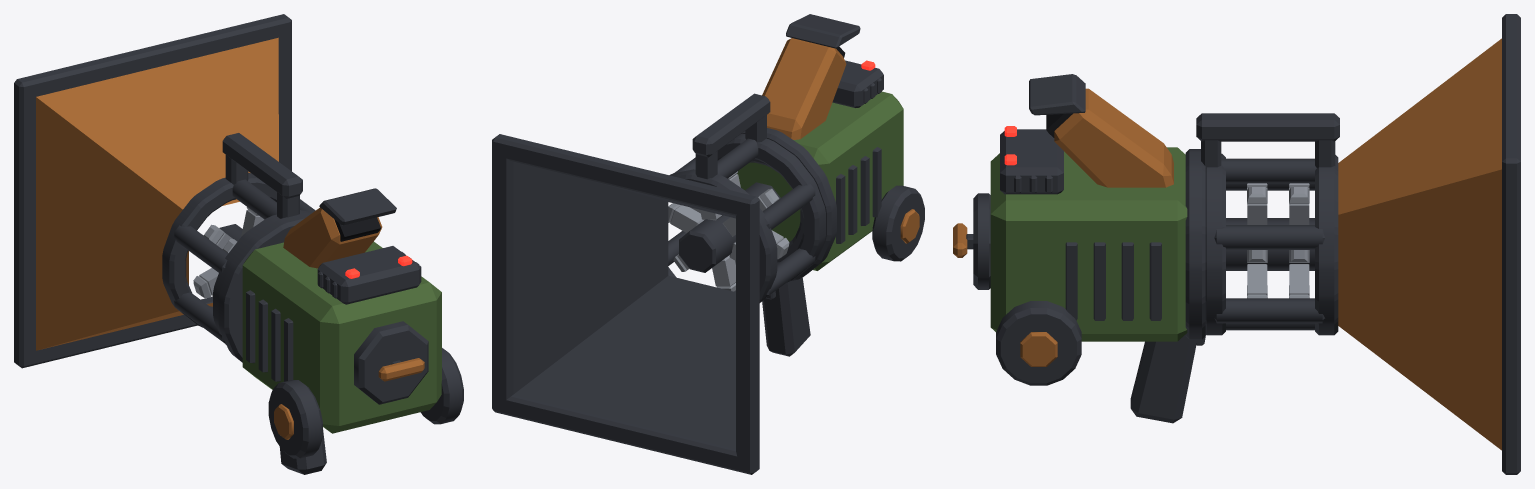
Rendered from w_shredder@shredder_chipper.glb.
The picture shows the model from 3 angles, left to right: view 1: azimuth 30°, elevation 25°; view 2: azimuth 150°, elevation 25°; view 3: azimuth 270°, elevation 25°; orthographic projection. The views are drawn at different scales.
Visible parts, largest first — view 1: hopper_wzA, motor_wzA, rim_wzN, cage_wzB, wheel_wzN, starter_wzN, engine_wzB, bar_wzN, band_wzN, chute_wzB, vents_wzN, chute_wzN.001 (+5 smaller); view 2: throat_wzB, rim_wzN, motor_wzA, cage_wzB, chute_wzB, bar_wzN, grip_wzB, vents_wzN, wheel_wzN, teeth_wzN, hub_wzN, band_wzN (+3 smaller); view 3: hopper_wzA, motor_wzA, cage_wzB, rim_wzN, chute_wzB, bar_wzN, wheel_wzN, grip_wzB, vents_wzN, band_wzN, engine_wzB, teeth_wzN (+4 smaller).
Boxes of the visible parts, box(x1,y1,x2,y2) form: hopper_wzA: box(36, 37, 278, 350); motor_wzA: box(242, 241, 441, 433); rim_wzN: box(14, 14, 291, 368); cage_wzB: box(162, 173, 315, 344); wheel_wzN: box(268, 348, 463, 458); starter_wzN: box(354, 321, 428, 404); engine_wzB: box(317, 246, 421, 304); bar_wzN: box(222, 133, 302, 218); band_wzN: box(218, 213, 311, 362); chute_wzB: box(283, 207, 382, 268); vents_wzN: box(246, 290, 293, 381); chute_wzN.001: box(319, 188, 396, 225); throat_wzB: box(513, 161, 735, 448); rim_wzN: box(492, 134, 759, 474); motor_wzA: box(737, 91, 903, 270); cage_wzB: box(668, 133, 825, 302); chute_wzB: box(762, 38, 846, 139); bar_wzN: box(692, 93, 770, 179); grip_wzB: box(762, 277, 810, 356); vents_wzN: box(836, 147, 881, 243); wheel_wzN: box(872, 185, 924, 261); teeth_wzN: box(668, 171, 789, 291); hub_wzN: box(679, 182, 780, 272); band_wzN: box(741, 128, 836, 280); hopper_wzA: box(1338, 38, 1501, 450); motor_wzA: box(990, 147, 1187, 341); cage_wzB: box(1205, 153, 1338, 335); rim_wzN: box(1502, 14, 1520, 474); chute_wzB: box(1054, 88, 1173, 187); bar_wzN: box(1196, 113, 1339, 167); wheel_wzN: box(996, 301, 1081, 385); grip_wzB: box(1130, 334, 1197, 423); vents_wzN: box(1065, 242, 1161, 320); band_wzN: box(1185, 149, 1205, 339); engine_wzB: box(1000, 129, 1063, 194); teeth_wzN: box(1247, 183, 1309, 298).
Size of the model in its own units: 0.448 by 0.4776 by 0.728.
